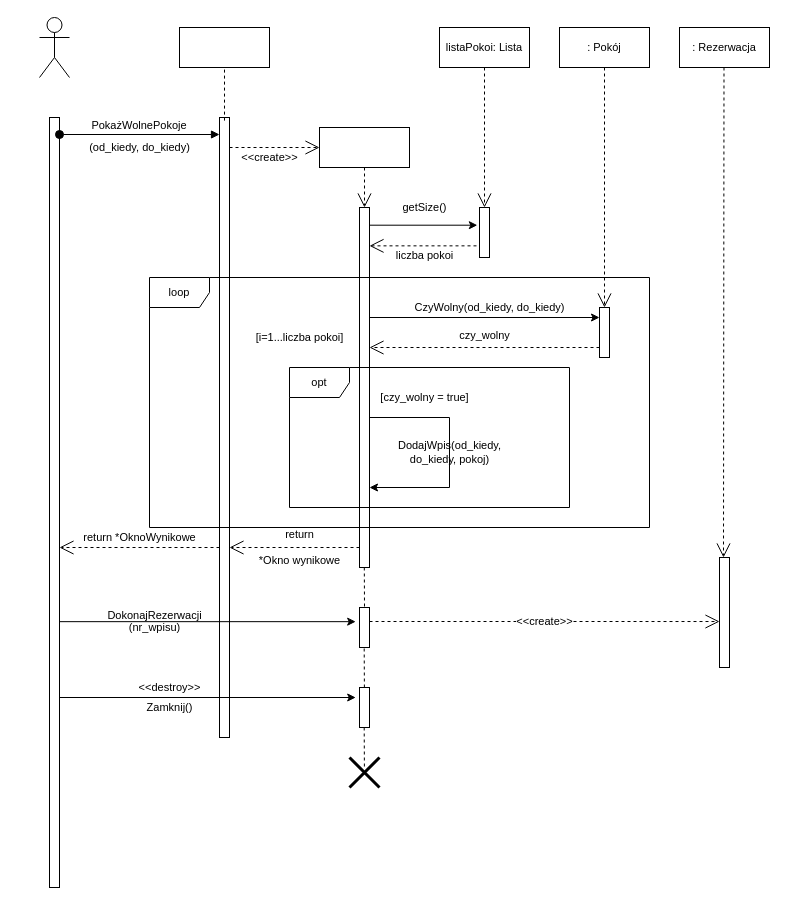
Some shapes in this 787 by 905 pixel diagram are drawn without their labels. Each missing label, with the centre of its shape:
: Hotel: [224,47]
: Okno wynikowe: [364,147]
<<user>> Recepcjonista: [54,47]
